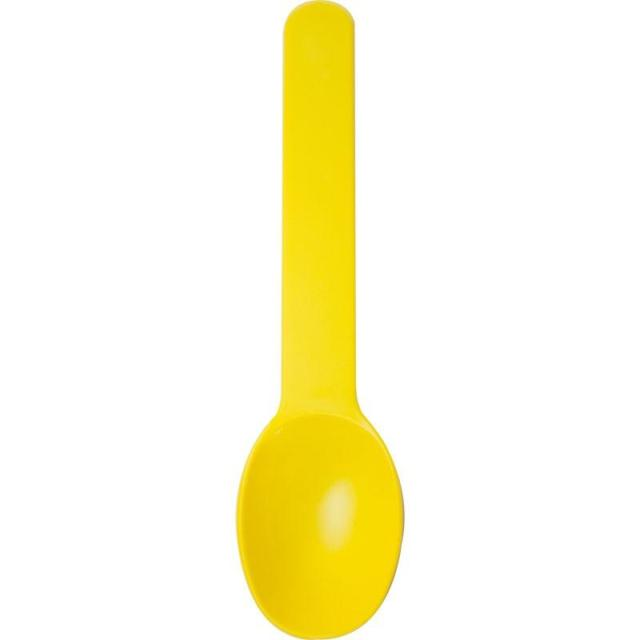spoon: (225, 0, 408, 640)
